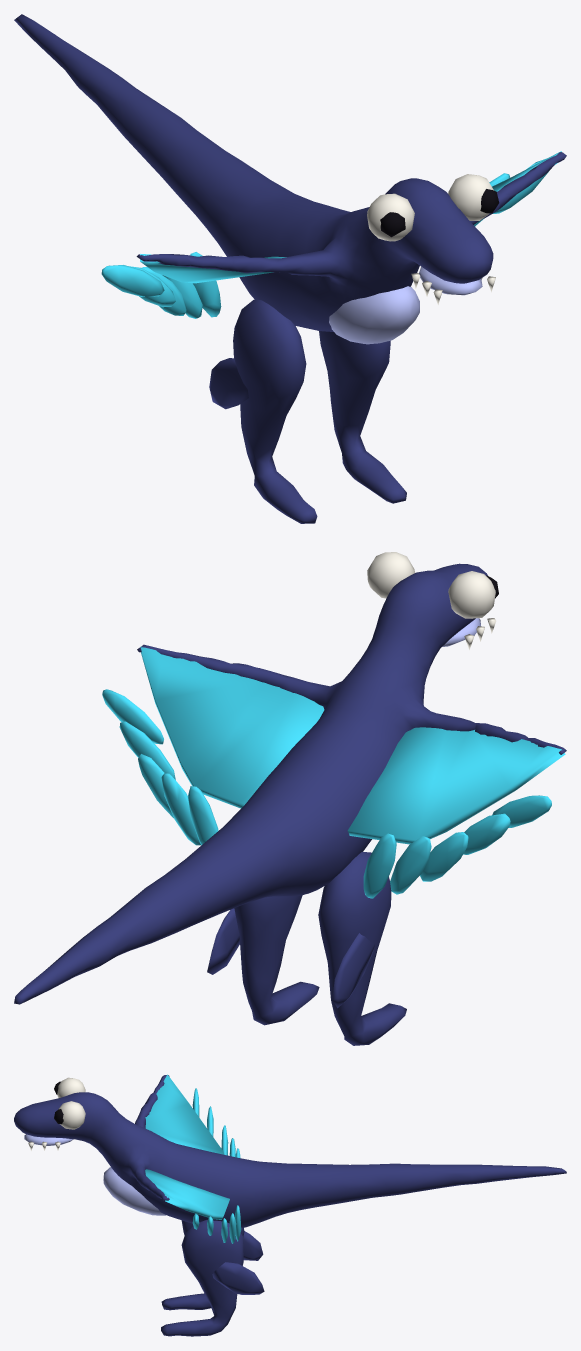
File: Dino_Microraptor.fbx
The picture shows the model from 3 angles, top to bottom: view 1: azimuth 30°, elevation 25°; view 2: azimuth 150°, elevation 25°; view 3: azimuth 270°, elevation 25°; orthographic projection. The views are drawn at different scales.
Visible parts, largest first — view 1: Body, LegL, LegR, Accent, Belly, EyeWhite, Pupil; view 2: Body, Accent, LegL, LegR, EyeWhite; view 3: Body, Accent, LegR, Belly, LegL, EyeWhite.
Boxes of the visible parts, box(x1,y1,x2,y2) form: Body: box(14, 14, 566, 331); LegL: box(209, 299, 317, 523); LegR: box(319, 331, 406, 503); Accent: box(101, 151, 561, 318); Belly: box(329, 266, 482, 344); EyeWhite: box(367, 174, 495, 304); Pupil: box(380, 189, 499, 237); Body: box(14, 563, 566, 1004); Accent: box(102, 646, 565, 898); LegL: box(318, 851, 406, 1045); LegR: box(207, 895, 319, 1025); EyeWhite: box(367, 552, 496, 649); Body: box(14, 1075, 566, 1227); Accent: box(145, 1074, 241, 1243); LegR: box(161, 1219, 264, 1336); Belly: box(24, 1134, 166, 1215); LegL: box(161, 1220, 263, 1310); EyeWhite: box(28, 1077, 85, 1150).
Bounding box in the file's own units: 4.57 × 3.76 × 8.14.
